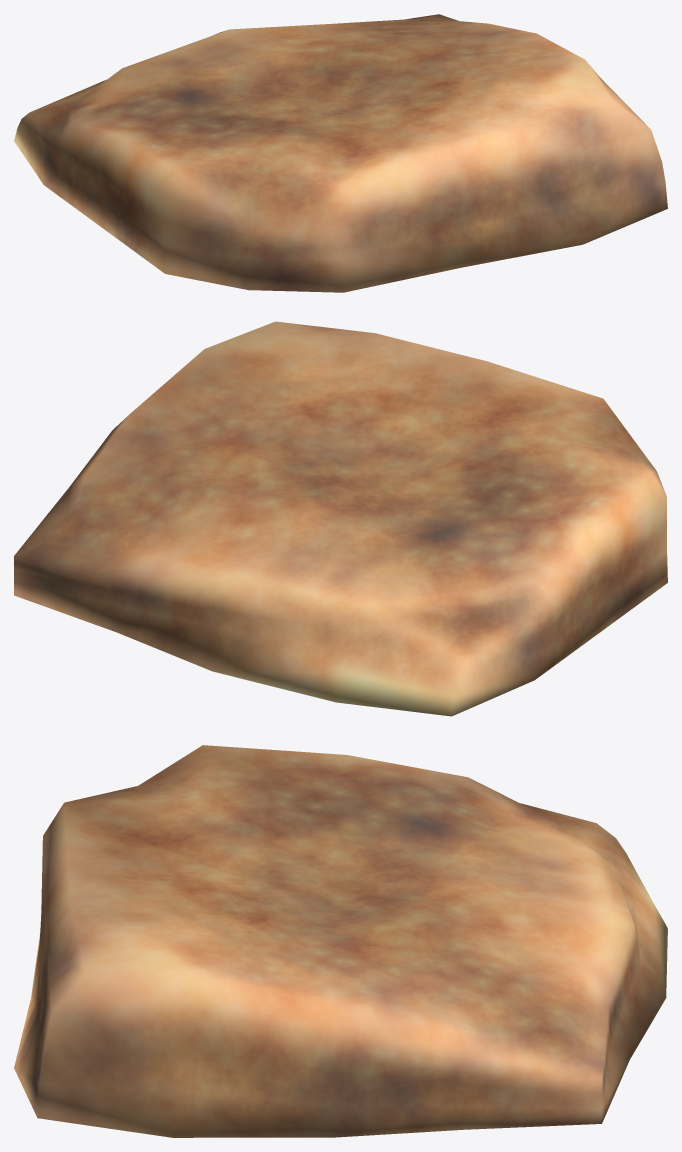
The model's file is rock1.obj.
3 renders of one model, top to bottom at view 1: azimuth 30°, elevation 25°; view 2: azimuth 150°, elevation 25°; view 3: azimuth 270°, elevation 25°, orthographic. The views are drawn at different scales.
Visible parts, largest first — view 1: Rock1; view 2: Rock1; view 3: Rock1.
Boxes of the visible parts, x1,y1,x2,y2 form: Rock1: (14, 14, 667, 292); Rock1: (14, 321, 667, 716); Rock1: (14, 745, 667, 1137).
Size of the model in its own units: 2.4 by 0.5614 by 2.38.
Materials: 1 (1 with a texture image).
